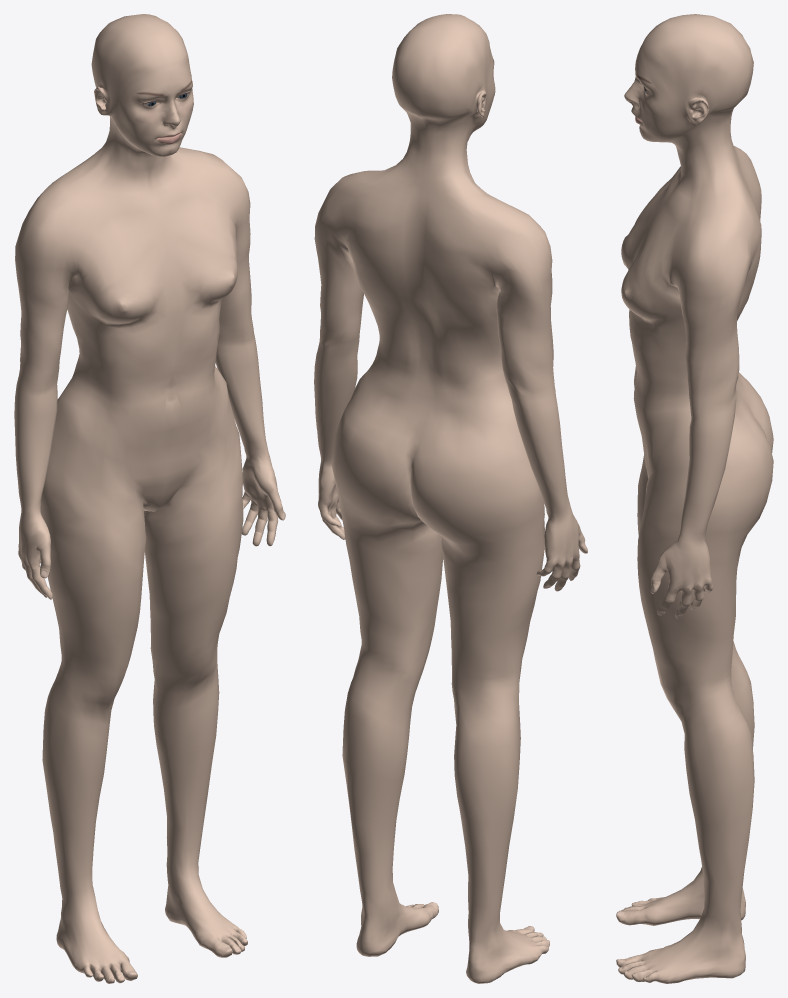
Rendered from female_A_refined.glb.
The picture shows the model from 3 angles, left to right: view 1: azimuth 30°, elevation 25°; view 2: azimuth 150°, elevation 25°; view 3: azimuth 270°, elevation 25°; orthographic projection.
Visible parts, largest first — view 1: basemesh_female_body; view 2: basemesh_female_body; view 3: basemesh_female_body.
Boxes of the visible parts, left/top/right/bottom form: basemesh_female_body: left=14, top=14, right=285, bottom=983; basemesh_female_body: left=314, top=14, right=587, bottom=983; basemesh_female_body: left=616, top=14, right=773, bottom=983.
Size of the model in its own units: 0.4716 by 1.67 by 0.2571.
3 materials, 2 textured.
